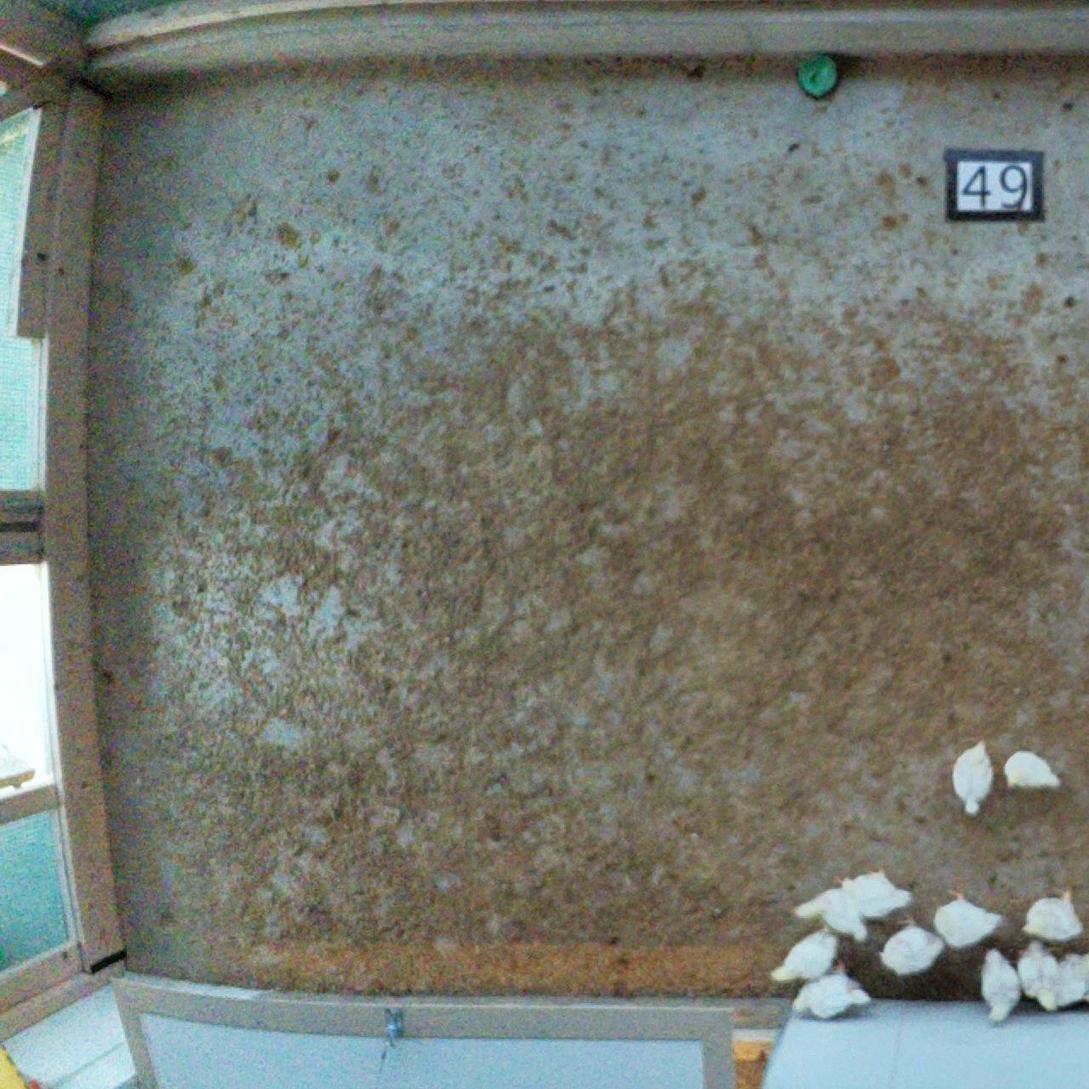chicken: (791, 960, 870, 1022), (933, 889, 1002, 951), (795, 888, 869, 944), (771, 927, 841, 983), (839, 867, 914, 919), (877, 921, 942, 974), (1022, 887, 1084, 942), (951, 740, 994, 817), (978, 948, 1018, 1022), (1017, 940, 1058, 1012), (1003, 750, 1063, 790), (1057, 952, 1089, 1010)
